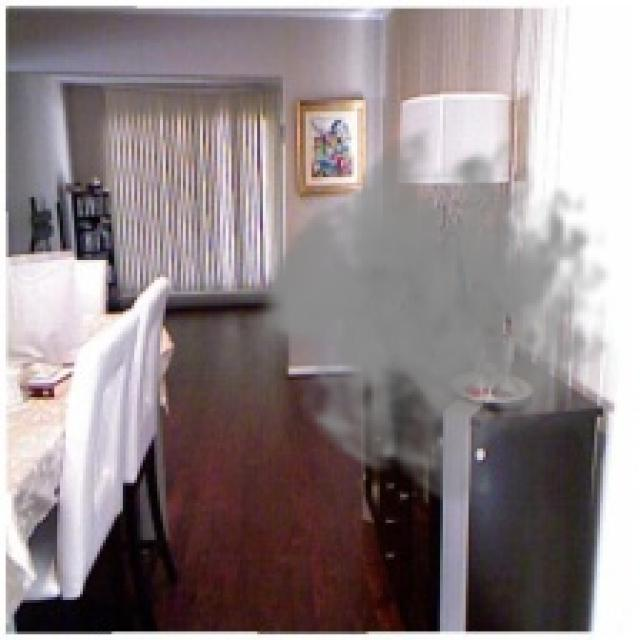smoke: (254, 114, 612, 512)
